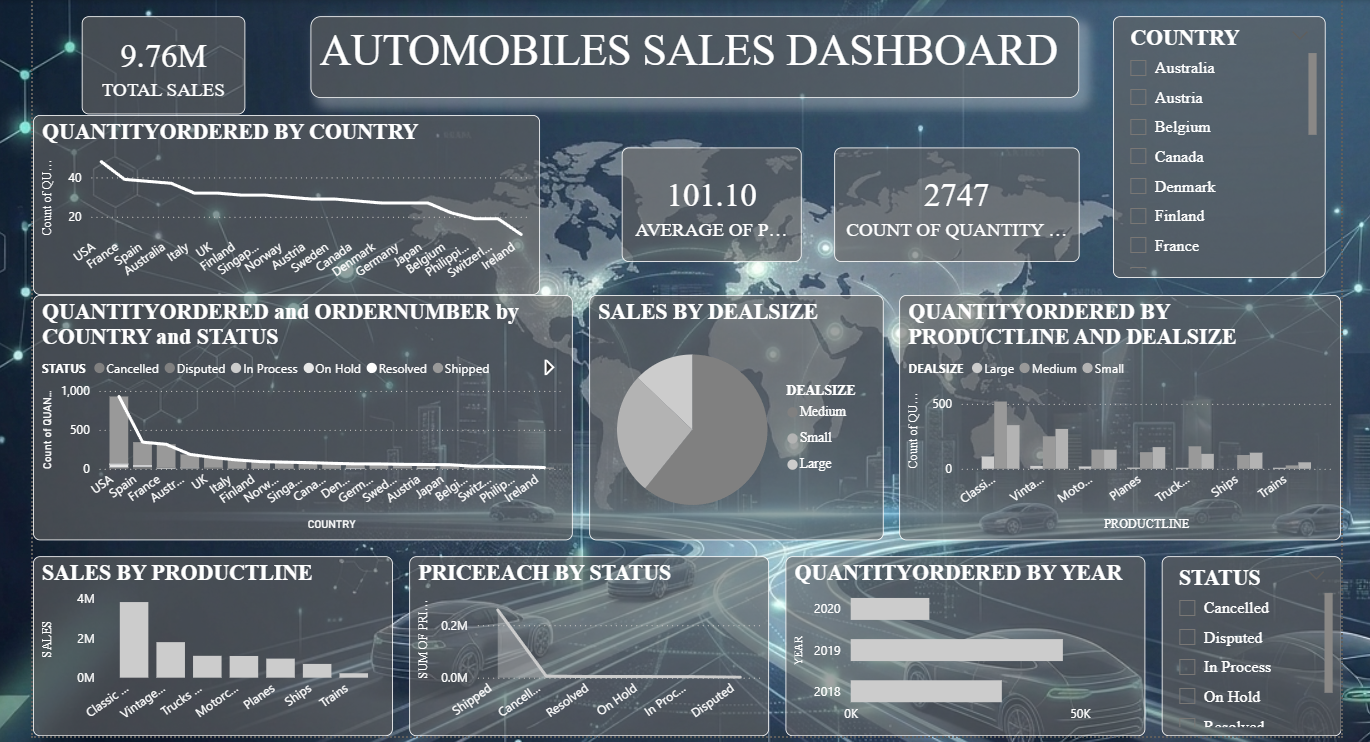

The page's visual inventory and layout, read from the dashboard file:
{"tool":"powerbi","page":{"name":"DASHBOARD","canvas":[1280,720],"ordinal":0},"visuals":[{"type":"barChart","title":"QUANTITYORDERED BY YEAR","fields":{"Category":["Auto Sales data.ORDERDATE.Variation.Date Hierarchy.Year","Auto Sales data.ORDERDATE.Variation.Date Hierarchy.Quarter","Auto Sales data.ORDERDATE.Variation.Date Hierarchy.Month","Auto Sales data.ORDERDATE.Variation.Date Hierarchy.Day"],"Y":["Sum(Auto Sales data.QUANTITYORDERED)"]},"box":[736,544,352,176],"z":0},{"type":"columnChart","title":"SALES BY PRODUCTLINE","fields":{"Category":["Auto Sales data.PRODUCTLINE"],"Y":["Sum(Auto Sales data.SALES)"]},"box":[0,544,352,176],"z":1000},{"type":"lineChart","title":"QUANTITYORDERED BY COUNTRY","fields":{"Y":["Count(Auto Sales data.QUANTITYORDERED)"],"Category":["Auto Sales data.COUNTRY"]},"box":[0,112,496,176],"z":2000},{"type":"pieChart","title":"SALES BY DEALSIZE","fields":{"Y":["Sum(Auto Sales data.SALES)"],"Category":["Auto Sales data.DEALSIZE"]},"box":[544,288,288,240],"z":3000},{"type":"clusteredColumnChart","title":"QUANTITYORDERED BY PRODUCTLINE AND DEALSIZE","fields":{"Category":["Auto Sales data.PRODUCTLINE"],"Y":["CountNonNull(Auto Sales data.QUANTITYORDERED)"],"Series":["Auto Sales data.DEALSIZE"]},"box":[848,288,432,240],"z":4000},{"type":"card","fields":{"Values":["Auto Sales data.TOTAL"]},"box":[48,16,160,96],"z":5000},{"type":"card","fields":{"Values":["Auto Sales data.COUNT"]},"box":[784,144,240,112],"z":6000},{"type":"card","fields":{"Values":["Auto Sales data.AVERAGE"]},"box":[576,144,176,112],"z":7000},{"type":"stackedAreaChart","title":"PRICEEACH BY STATUS","fields":{"Category":["Auto Sales data.STATUS"],"Y":["Sum(Auto Sales data.PRICEEACH)"]},"box":[368,544,352,176],"z":8000},{"type":"lineStackedColumnComboChart","title":"QUANTITYORDERED and ORDERNUMBER by COUNTRY and STATUS","fields":{"Category":["Auto Sales data.COUNTRY"],"Series":["Auto Sales data.STATUS"],"Y":["CountNonNull(Auto Sales data.QUANTITYORDERED)"],"Y2":["CountNonNull(Auto Sales data.ORDERNUMBER)"]},"box":[0,288,528,240],"z":9000},{"type":"textbox","box":[272,16,752,80],"z":10000},{"type":"slicer","fields":{"Values":["Auto Sales data.COUNTRY"]},"box":[1056,16,208,256],"z":13000},{"type":"slicer","fields":{"Values":["Auto Sales data.STATUS"]},"box":[1104,544,176,176],"z":14000}]}

Visuals, with their boxes on the page's 1280x720 design canvas (x1, y1, x2, y2). These are canvas units, not pixel positions in the 1370x742 screenshot, which may show the page scaled, cropped or inside an application window:
"QUANTITYORDERED BY YEAR" barChart: (left=736, top=544, right=1088, bottom=720)
"SALES BY PRODUCTLINE" columnChart: (left=0, top=544, right=352, bottom=720)
"QUANTITYORDERED BY COUNTRY" lineChart: (left=0, top=112, right=496, bottom=288)
"SALES BY DEALSIZE" pieChart: (left=544, top=288, right=832, bottom=528)
"QUANTITYORDERED BY PRODUCTLINE AND DEALSIZE" clusteredColumnChart: (left=848, top=288, right=1280, bottom=528)
card - Auto Sales data.TOTAL: (left=48, top=16, right=208, bottom=112)
card - Auto Sales data.COUNT: (left=784, top=144, right=1024, bottom=256)
card - Auto Sales data.AVERAGE: (left=576, top=144, right=752, bottom=256)
"PRICEEACH BY STATUS" stackedAreaChart: (left=368, top=544, right=720, bottom=720)
"QUANTITYORDERED and ORDERNUMBER by COUNTRY and STATUS" lineStackedColumnComboChart: (left=0, top=288, right=528, bottom=528)
textbox: (left=272, top=16, right=1024, bottom=96)
slicer - Auto Sales data.COUNTRY: (left=1056, top=16, right=1264, bottom=272)
slicer - Auto Sales data.STATUS: (left=1104, top=544, right=1280, bottom=720)
